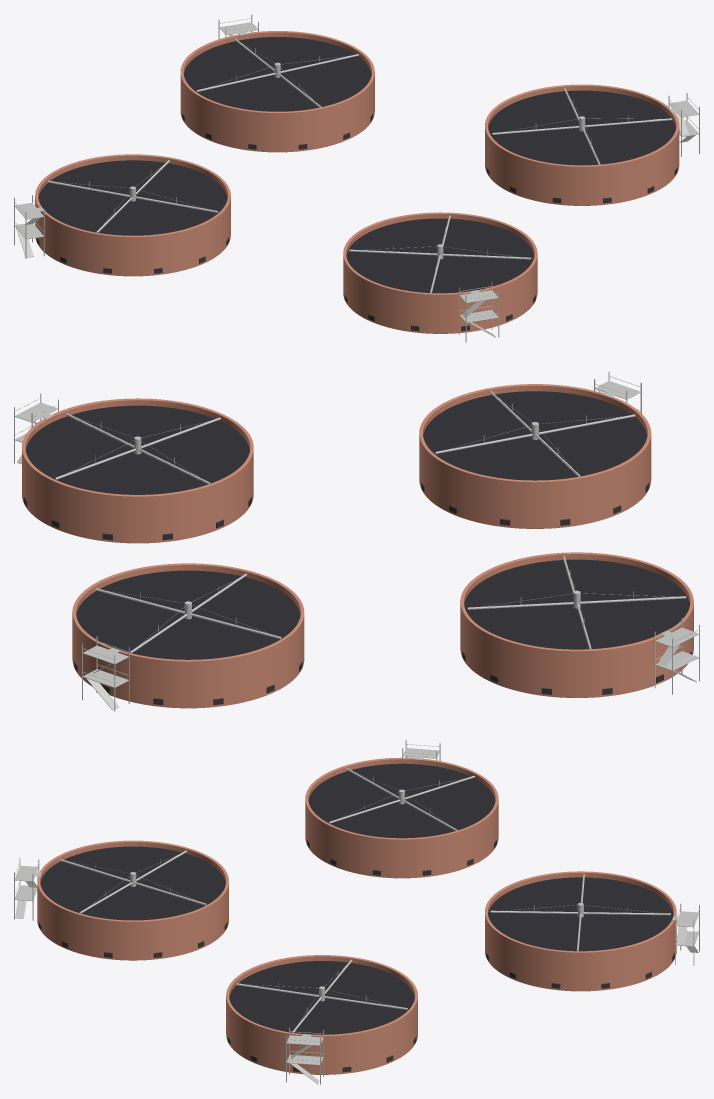
Rendered from Lits_bacteriens.glb.
3 views of the same model, one above another, from view 1: azimuth 30°, elevation 25°; view 2: azimuth 150°, elevation 25°; view 3: azimuth 270°, elevation 25° (orthographic). The views are drawn at different scales.
Visible parts, largest first — view 1: LB1_Garnissage, LB2_Garnissage, LB3_Garnissage, LB4_Garnissage, LB4_Paroi, LB3_Paroi, LB1_Paroi, LB2_Paroi, LB2_Escalier, LB1_Escalier, LB4_Distributeur, LB1_Distributeur (+3 smaller); view 2: LB1_Garnissage, LB2_Garnissage, LB4_Garnissage, LB3_Garnissage, LB2_Paroi, LB3_Paroi, LB1_Paroi, LB4_Paroi, LB4_Escalier, LB1_Escalier, LB3_Distributeur, LB4_Distributeur (+4 smaller); view 3: LB1_Garnissage, LB4_Garnissage, LB2_Garnissage, LB3_Garnissage, LB1_Paroi, LB2_Paroi, LB4_Paroi, LB3_Paroi, LB3_Escalier, LB2_Escalier, LB2_Distributeur, LB1_Distributeur (+3 smaller).
Part boxes in pixels (x1,y1,x2,y2): LB1_Garnissage: (38, 160, 227, 235); LB2_Garnissage: (346, 218, 534, 293); LB3_Garnissage: (488, 90, 675, 165); LB4_Garnissage: (183, 37, 371, 111); LB4_Paroi: (180, 31, 374, 152); LB3_Paroi: (485, 84, 679, 205); LB1_Paroi: (35, 154, 230, 276); LB2_Paroi: (343, 212, 537, 333); LB2_Escalier: (459, 282, 499, 342); LB1_Escalier: (14, 195, 44, 258); LB4_Distributeur: (196, 38, 358, 107); LB1_Distributeur: (48, 160, 218, 232); LB1_Garnissage: (464, 559, 689, 649); LB2_Garnissage: (423, 391, 647, 480); LB4_Garnissage: (76, 570, 300, 659); LB3_Garnissage: (25, 405, 249, 494); LB2_Paroi: (419, 384, 651, 528); LB3_Paroi: (22, 398, 253, 543); LB1_Paroi: (460, 552, 693, 697); LB4_Paroi: (72, 563, 304, 708); LB4_Escalier: (82, 636, 129, 711); LB1_Escalier: (654, 618, 699, 694); LB3_Distributeur: (54, 413, 220, 484); LB4_Distributeur: (95, 573, 281, 653); LB1_Garnissage: (308, 763, 495, 838); LB4_Garnissage: (488, 877, 673, 951); LB2_Garnissage: (40, 846, 225, 920); LB3_Garnissage: (229, 961, 414, 1034); LB1_Paroi: (305, 757, 498, 878); LB2_Paroi: (37, 840, 228, 960); LB4_Paroi: (485, 871, 676, 991); LB3_Paroi: (226, 955, 417, 1074); LB3_Escalier: (286, 1027, 323, 1084); LB2_Escalier: (14, 858, 41, 920); LB2_Distributeur: (59, 850, 206, 913); LB1_Distributeur: (328, 768, 475, 830).
Bounding box in the file's own units: 81.89 × 6.02 × 79.7.
4 materials, 4 textured.
